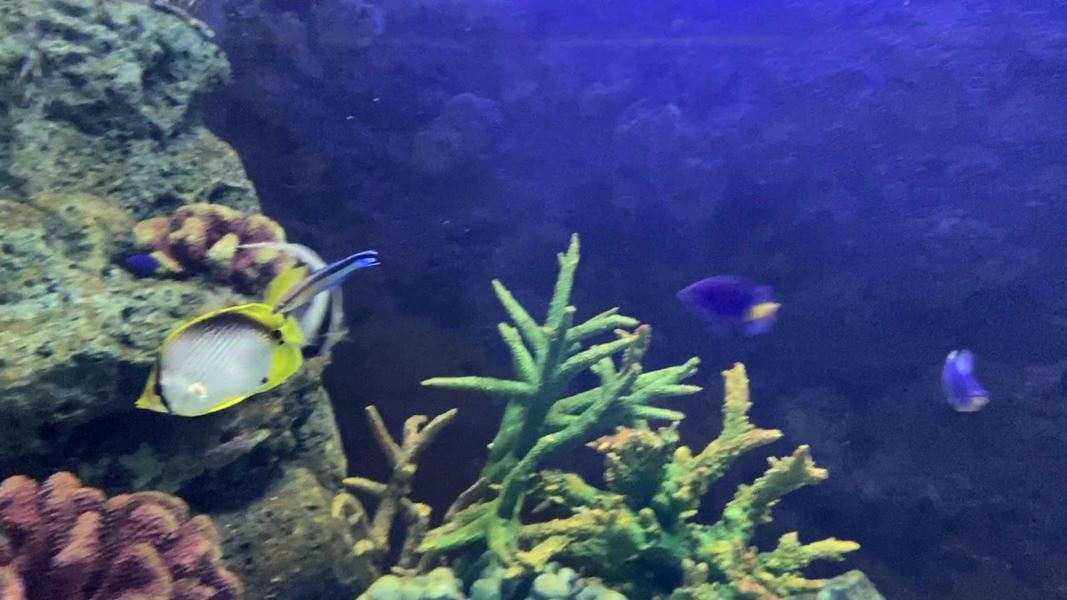Bluesteak cleaner wrasse: (274, 240, 385, 329)
